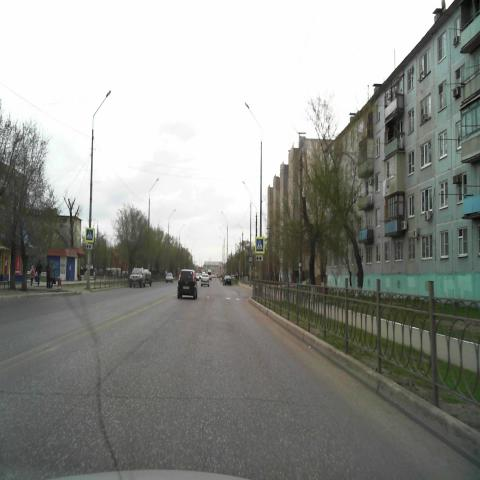5_19_1: (255, 237, 265, 252), (86, 228, 94, 242)
8_15: (256, 254, 264, 262), (86, 243, 94, 250)
